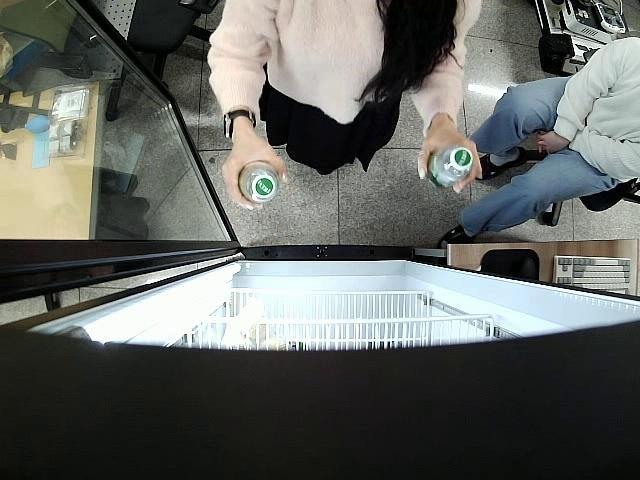18_trevi: (428, 147, 474, 188), (240, 162, 282, 204)
